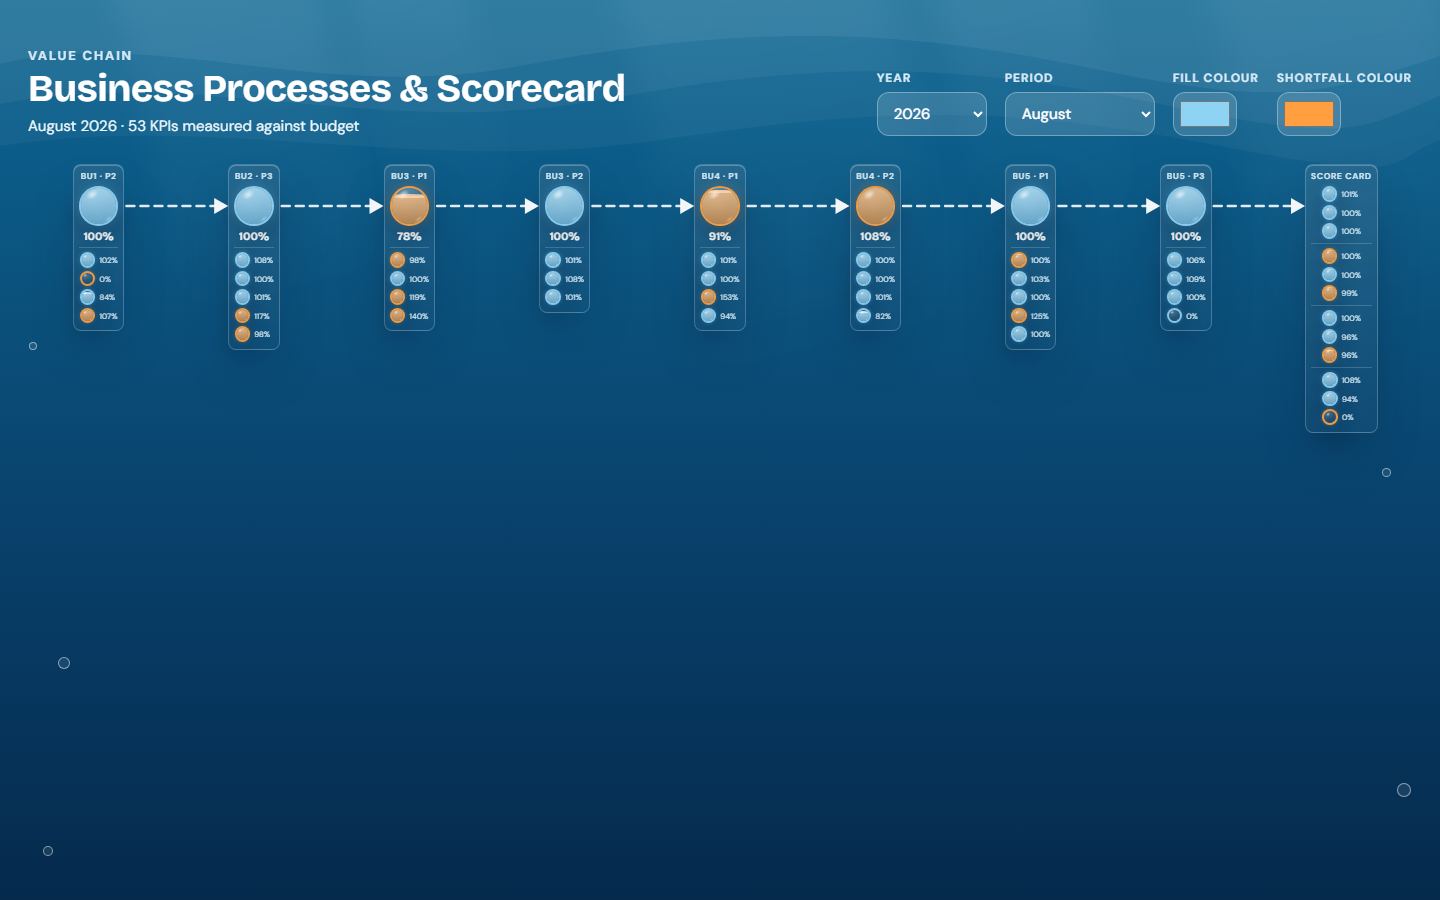

What the dashboard file says about the page in this screenshot:
{"tool":"powerbi","page":{"name":"Page 1","canvas":[1920,1080],"ordinal":0},"visuals":[{"type":"valueChainVisualiserE2BF44FFB3A34F0CB6D06A2CB79AE14B","fields":{"node":["Query1.node"],"nodeOrder":["Query1.nodeOrder"],"group":["Query1.group"],"subGroup":["Query1.subGroup"],"metric":["Query1.metric"],"operator":["Query1.operator"],"valueType":["Query1.valueType"],"symbol":["Query1.symbol"],"year":["Query1.year"],"period":["Query1.period"],"actual":["Sum(Query1.actual)"],"budget":["Sum(Query1.budget)"]},"box":[10.6,72.4,1768.1,1006.3],"z":0},{"type":"slicer","fields":{"Values":["Query1.year"]},"box":[911.2,16.6,247.4,55.8],"z":1},{"type":"slicer","fields":{"Values":["Query1.period"]},"box":[1169.2,16.6,274.6,55.8],"z":2}]}

Visuals, with their boxes in screenshot pixels (x1, y1, x2, y2):
valueChainVisualiserE2BF44FFB3A34F0CB6D06A2CB79AE14B - Query1.node x Query1.nodeOrder: [x1=71, y1=202, x2=1333, y2=899]
slicer - Query1.year: [x1=714, y1=162, x2=890, y2=202]
slicer - Query1.period: [x1=898, y1=162, x2=1094, y2=202]
